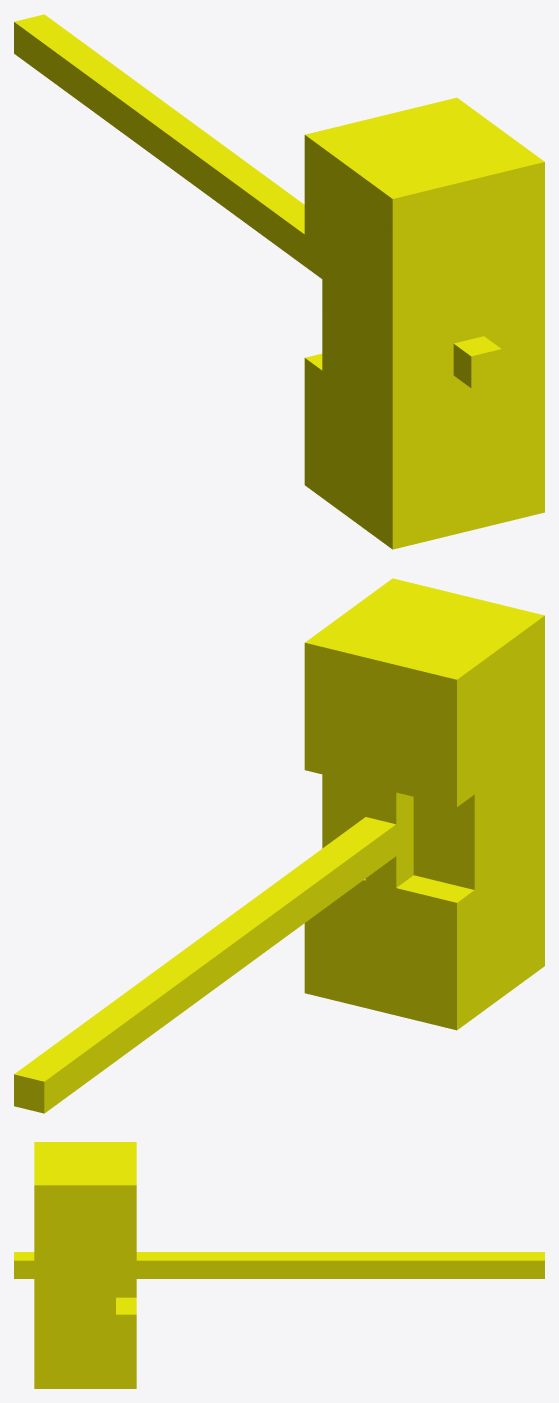
The model's file is voxel-knights-hammer.glb.
3 renders of one model, top to bottom at view 1: azimuth 30°, elevation 25°; view 2: azimuth 150°, elevation 25°; view 3: azimuth 270°, elevation 25°, orthographic. The views are drawn at different scales.
Parts seen in each view (by area): view 1: VS_Knights_Props_Hammer_001; view 2: VS_Knights_Props_Hammer_001; view 3: VS_Knights_Props_Hammer_001.
Boxes of the visible parts, x1,y1,x2,y2 form: VS_Knights_Props_Hammer_001: [14, 14, 544, 549]; VS_Knights_Props_Hammer_001: [14, 578, 544, 1113]; VS_Knights_Props_Hammer_001: [14, 1142, 544, 1388].
Bounding box in the file's own units: 0.4999 × 1.1 × 2.6.
